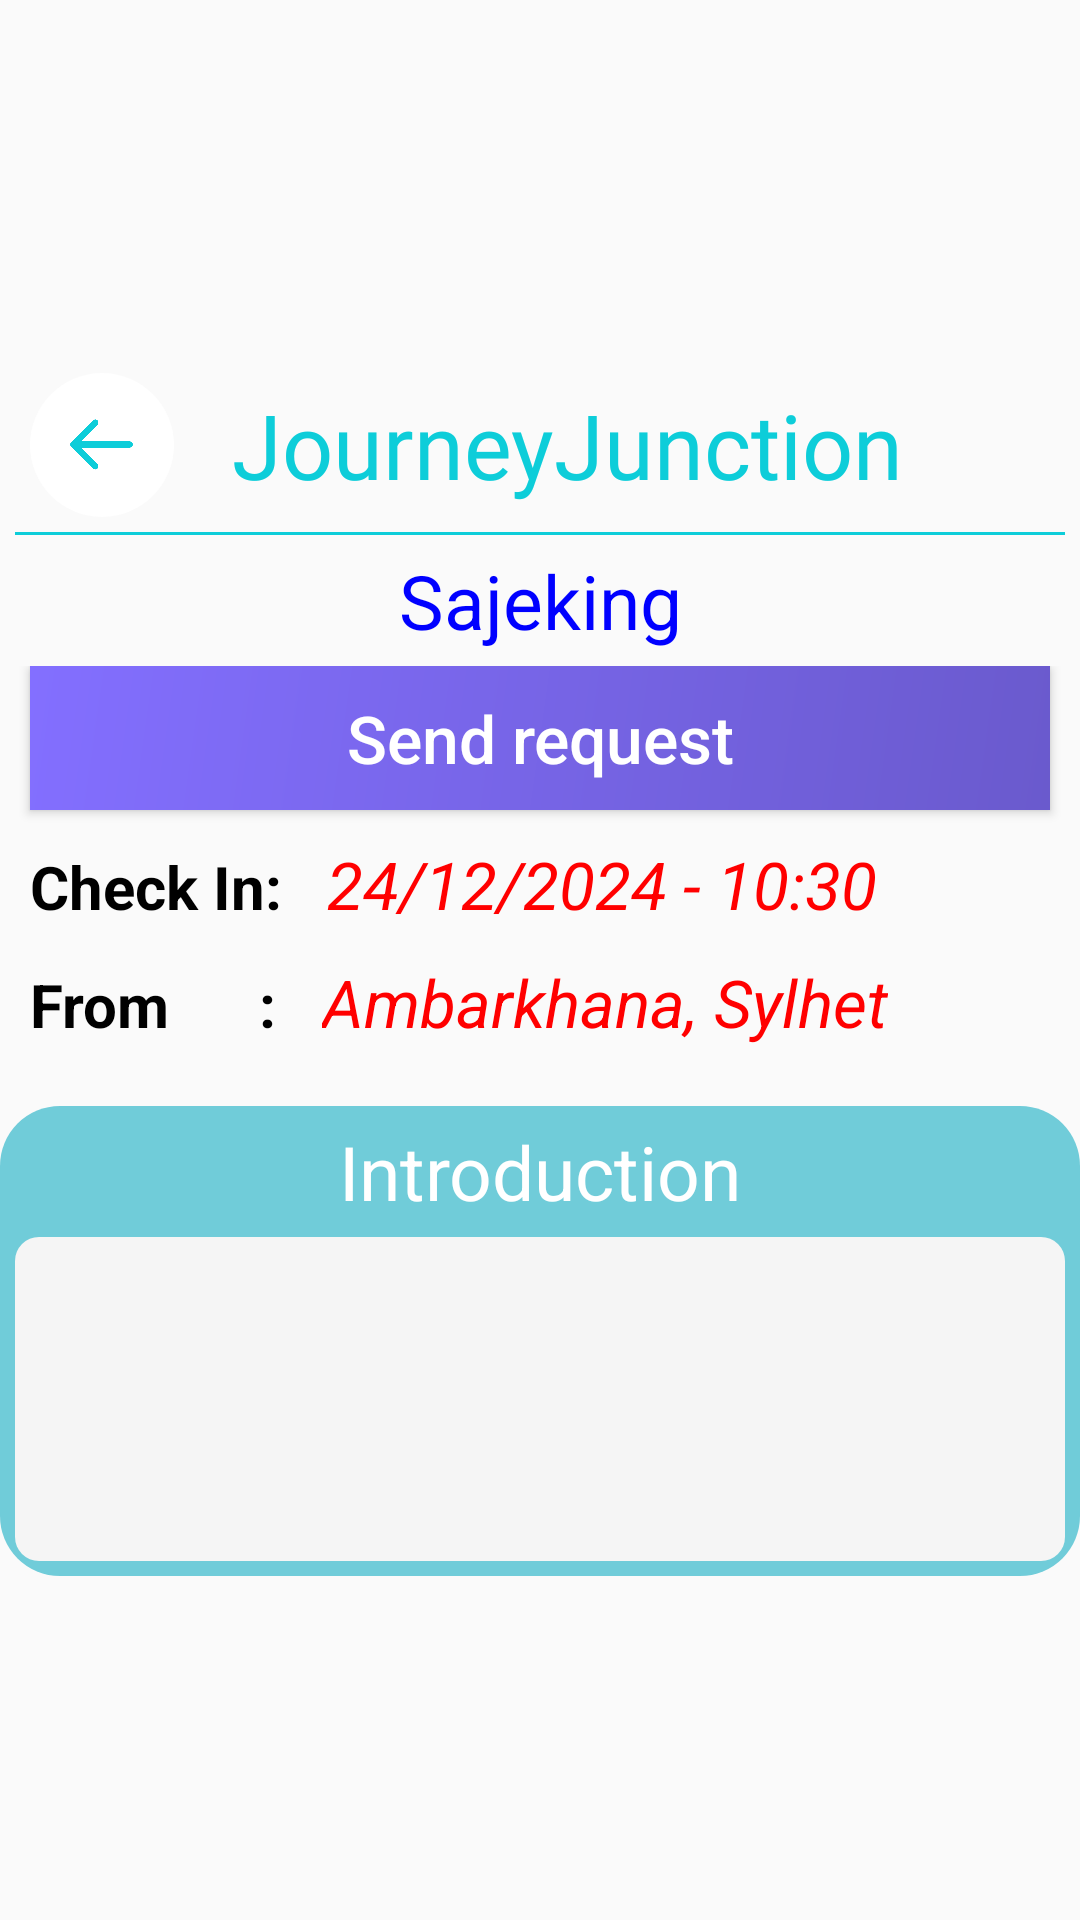

Screen size 1080*1920. Icon name, then its box in pixels as [x1=x1, y1=y1, x2=x2, y2=y2]:
back left: [x1=70, y1=419, x2=133, y2=470]
